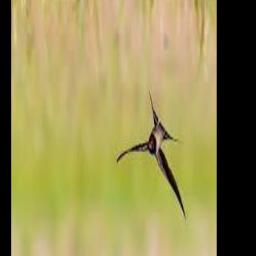Swallow: (116, 97, 185, 220)
